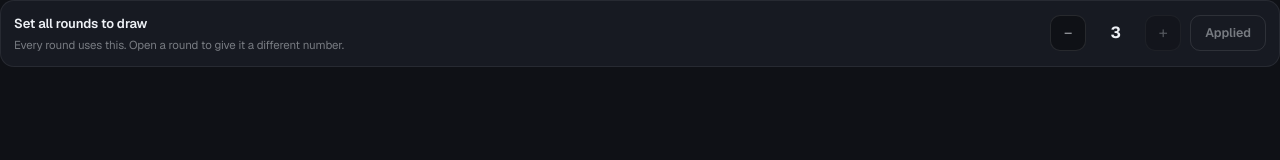
Test case: RoundsBulkBar › steps the field up and down with the +/- buttons, clamped to min/max
Expected: the number field named "Set all rounds to draw" holds "3", [1095,21,1136,45]
Expected: the button named "Increase" is disabled, [1145,15,1181,51]
Click the button named "Decrease": (1068, 33) [1050,15,1086,51]
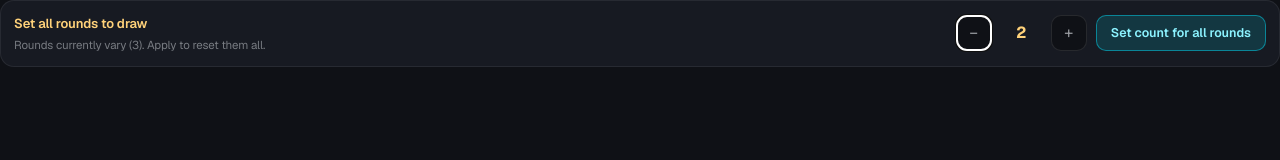
Click the button named "Decrease": (974, 33) [956,15,992,51]
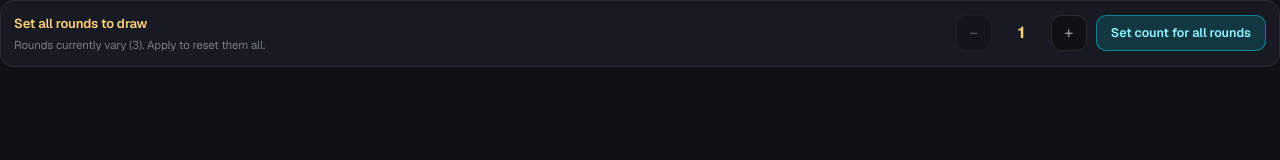
Now the number field named "Set all rounds to draw" holds "1", box [1001,21,1042,45]
Now the button named "Decrease" is disabled, box [956,15,992,51]
